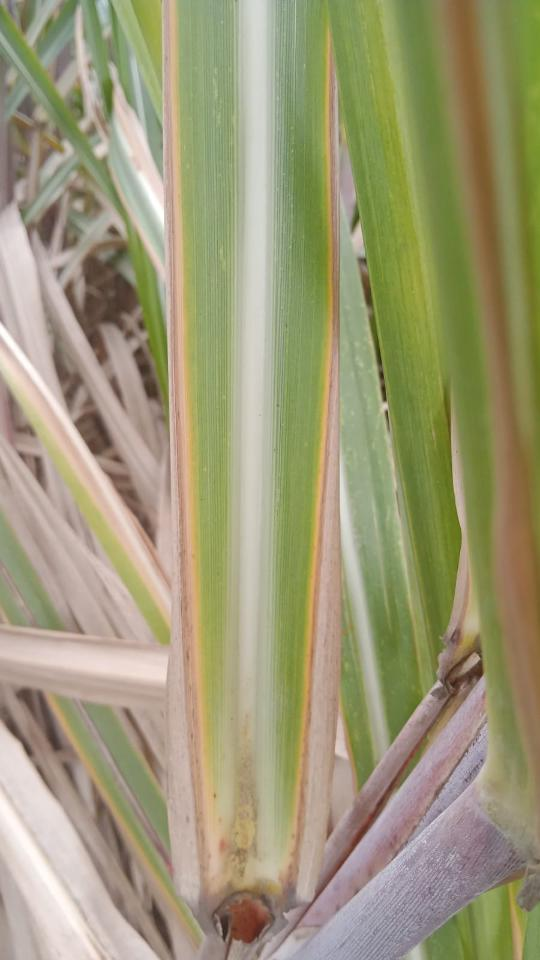Yellow: (166, 0, 220, 852), (294, 34, 335, 842)
